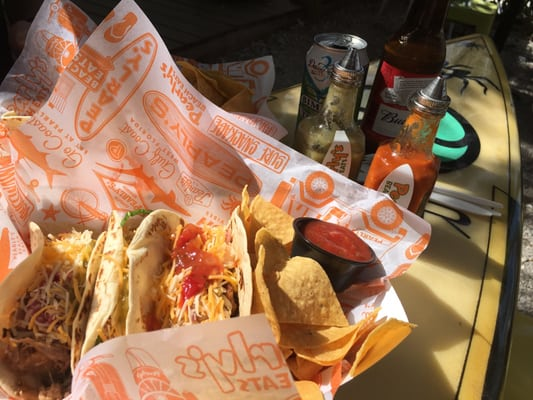burger: (362, 0, 450, 152), (363, 72, 451, 217), (294, 33, 370, 181)
